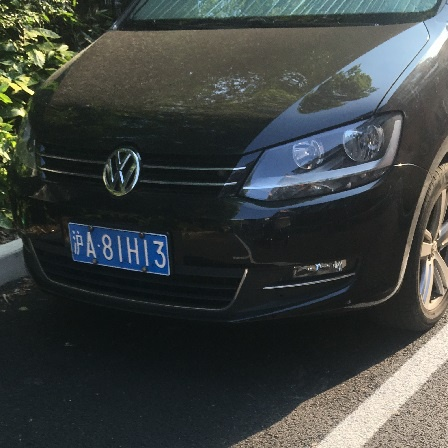plate: (67, 220, 173, 281)
